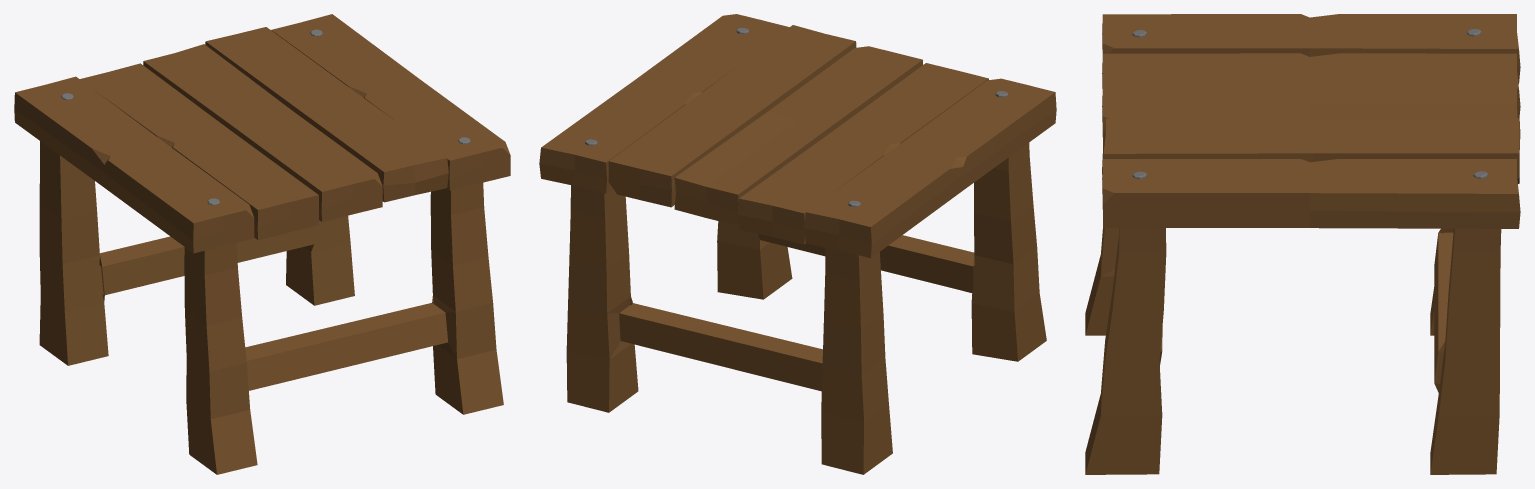
The model's file is Wood-Mesa.fbx.
3 renders of one model, left to right at view 1: azimuth 30°, elevation 25°; view 2: azimuth 150°, elevation 25°; view 3: azimuth 270°, elevation 25°, orthographic. The views are drawn at different scales.
Parts seen in each view (by area): view 1: Cube.004; view 2: Cube.004; view 3: Cube.004.
Boxes of the visible parts, x1,y1,x2,y2 form: Cube.004: [14, 14, 510, 474]; Cube.004: [539, 14, 1056, 474]; Cube.004: [1085, 14, 1520, 474].
Bounding box in the file's own units: 354 × 268 × 360.
